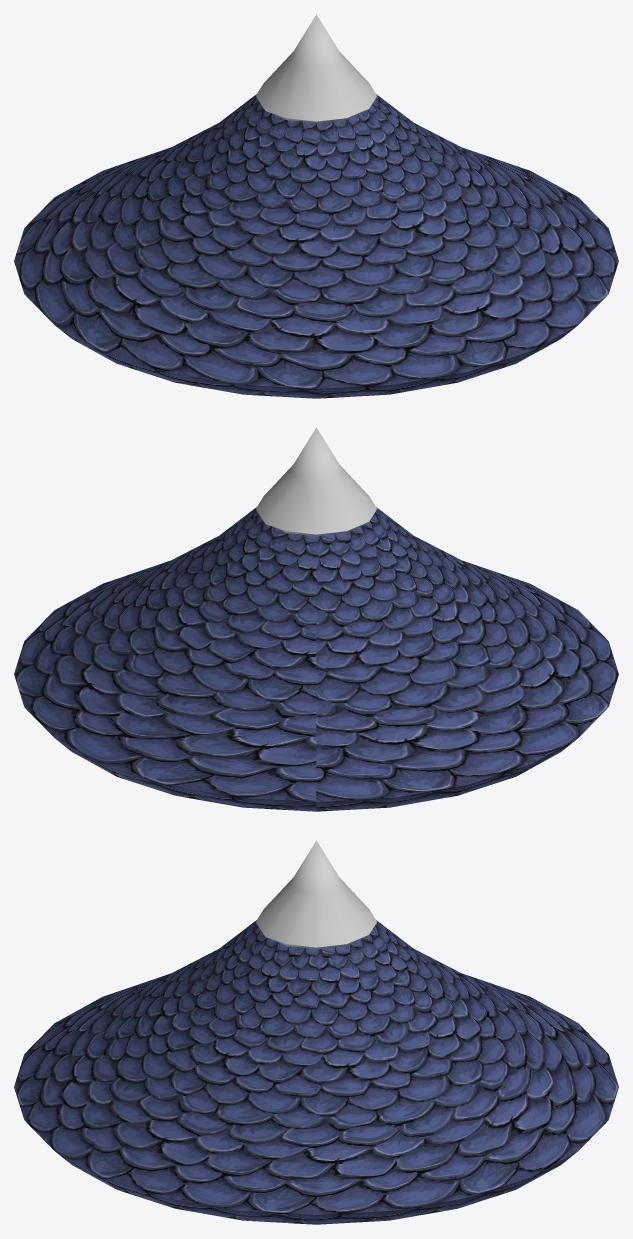
Rendered from e_tower_roof.fbx.
The picture shows the model from 3 angles, top to bottom: view 1: azimuth 30°, elevation 25°; view 2: azimuth 150°, elevation 25°; view 3: azimuth 270°, elevation 25°; orthographic projection.
Parts seen in each view (by area): view 1: polySurface2778; view 2: polySurface2778; view 3: polySurface2778.
Boxes of the visible parts, <box> form: polySurface2778: <box>14,14,618,398</box>; polySurface2778: <box>14,427,618,811</box>; polySurface2778: <box>14,840,618,1224</box>.
Bounding box in the file's own units: 9.5 × 4.59 × 9.5.
